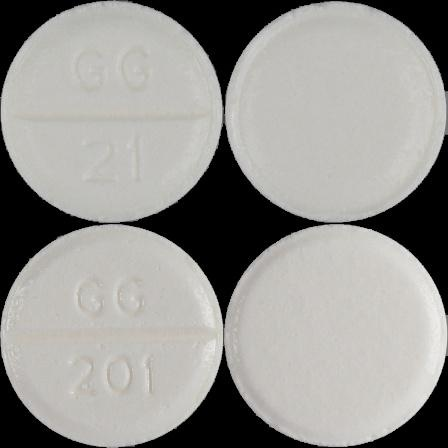0904-5796: (0, 0, 224, 224)
